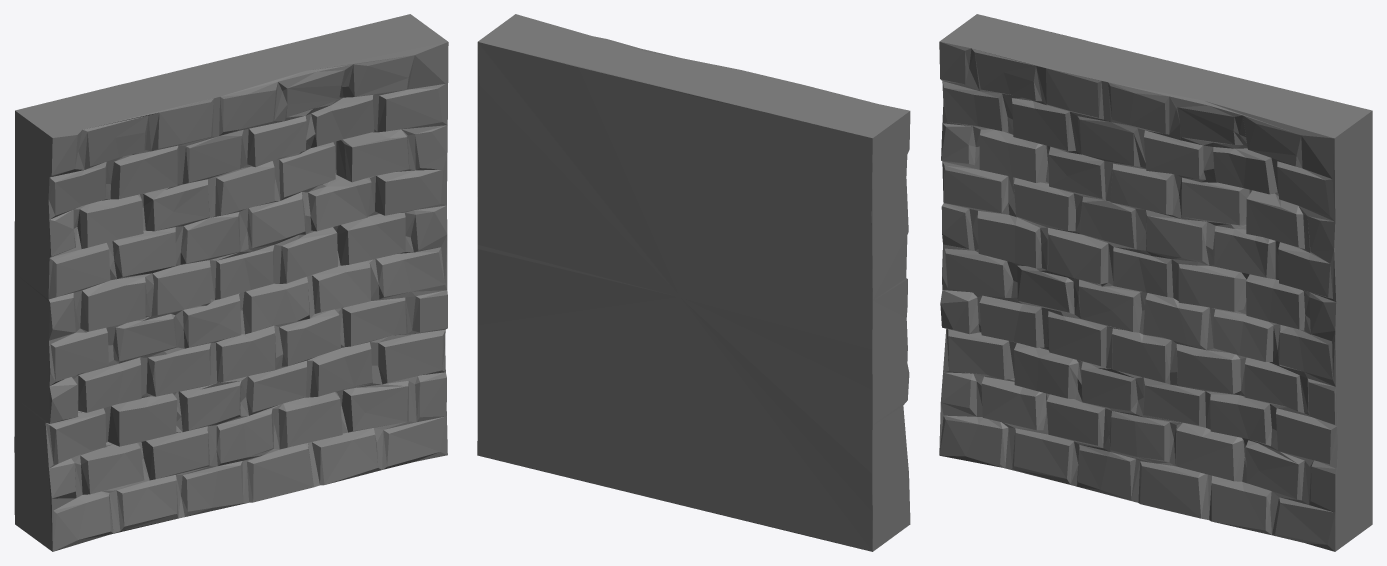
The model's file is modular_wall_3x3m_c.FBX.
3 renders of one model, left to right at view 1: azimuth 30°, elevation 25°; view 2: azimuth 150°, elevation 25°; view 3: azimuth 330°, elevation 25°, orthographic.
Parts seen in each view (by area): view 1: modular_wall_3x3m_c; view 2: modular_wall_3x3m_c; view 3: modular_wall_3x3m_c.
Boxes of the visible parts, bbox=[...] form: modular_wall_3x3m_c: bbox=[14, 14, 448, 551]; modular_wall_3x3m_c: bbox=[477, 14, 910, 551]; modular_wall_3x3m_c: bbox=[939, 14, 1372, 551].
Size of the model in its own units: 3 by 3 by 0.5068.
